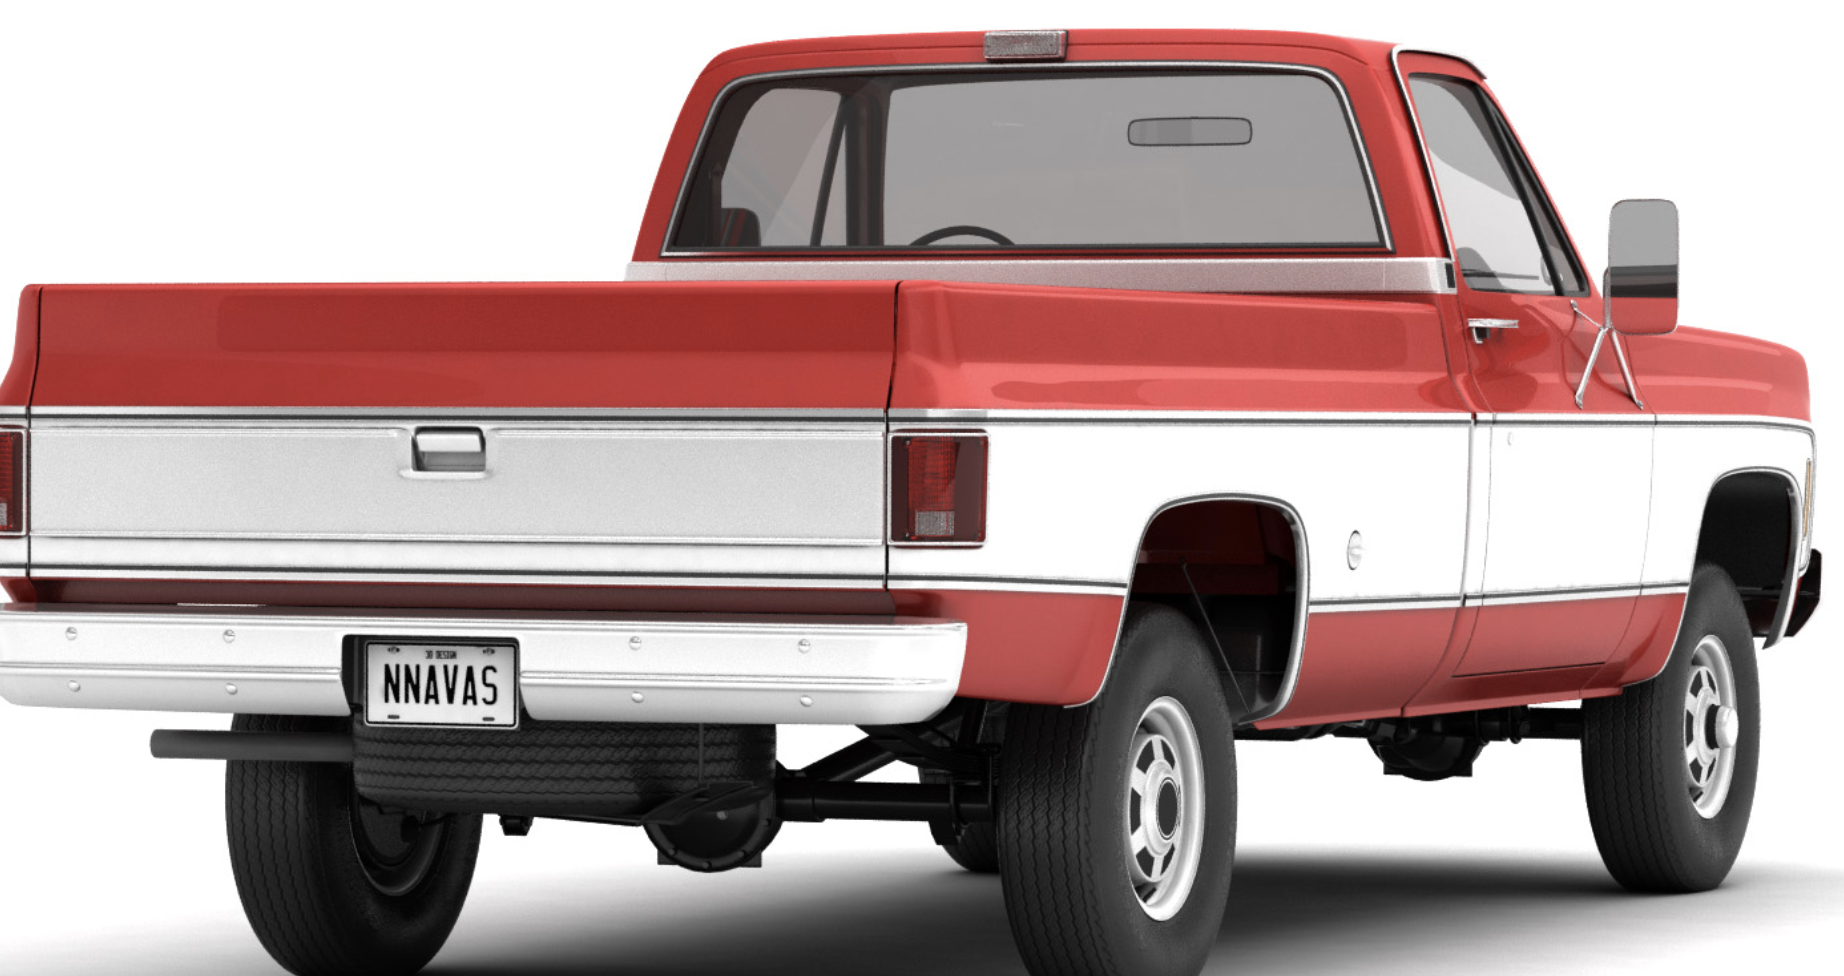hatch: (1337, 520, 1374, 581)
